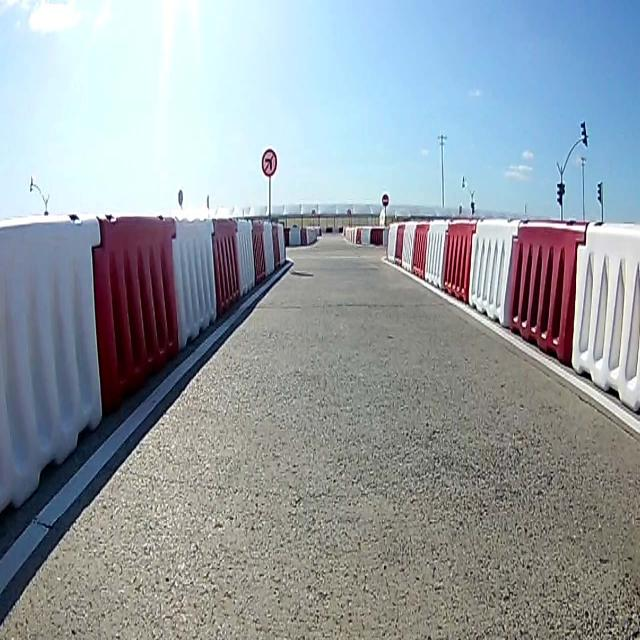girisyok: (381, 192, 389, 206)
soladonulmez: (261, 147, 278, 177)
